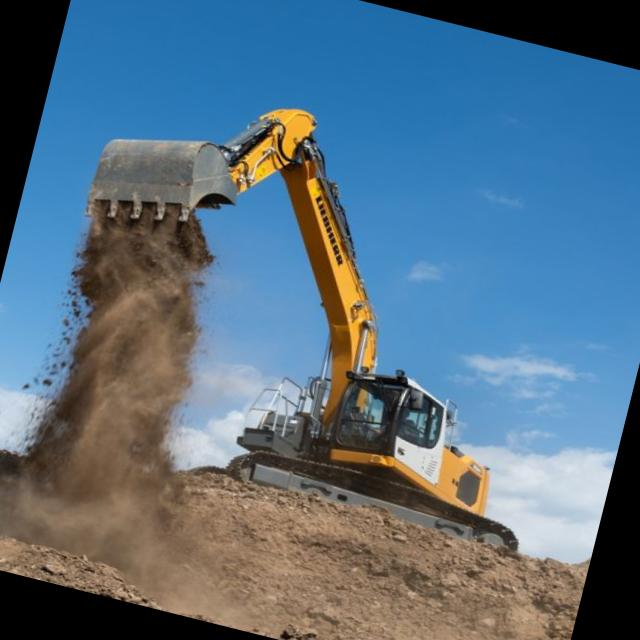red-sand: (0, 469, 590, 640)
